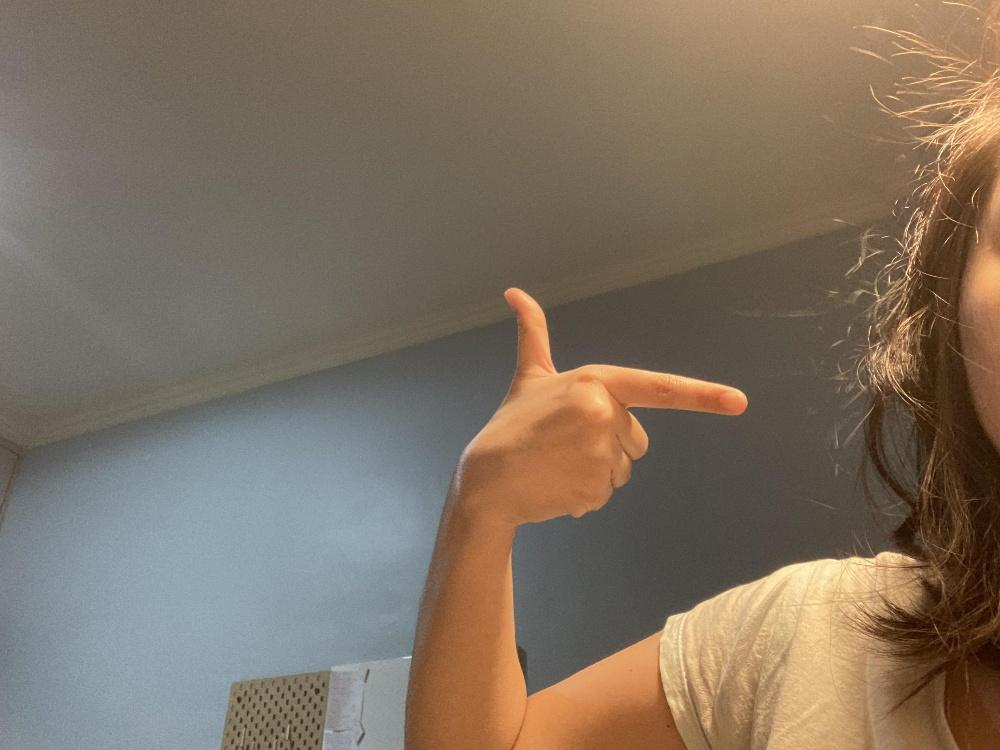g: (457, 286, 747, 528)
